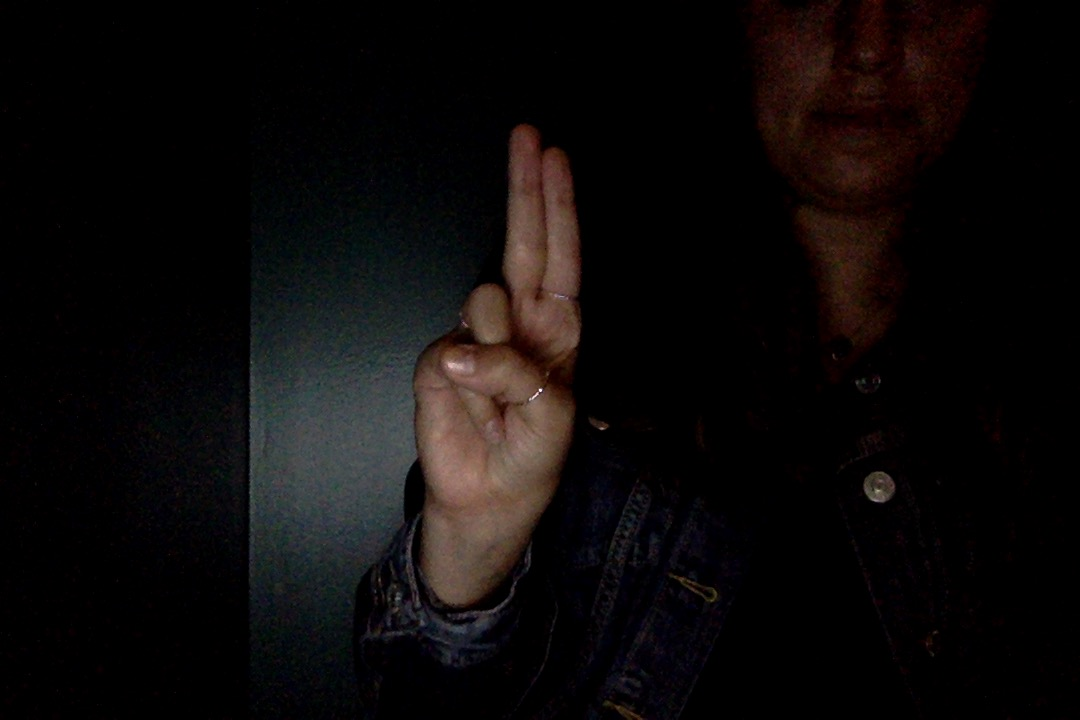u: (389, 104, 626, 615)
